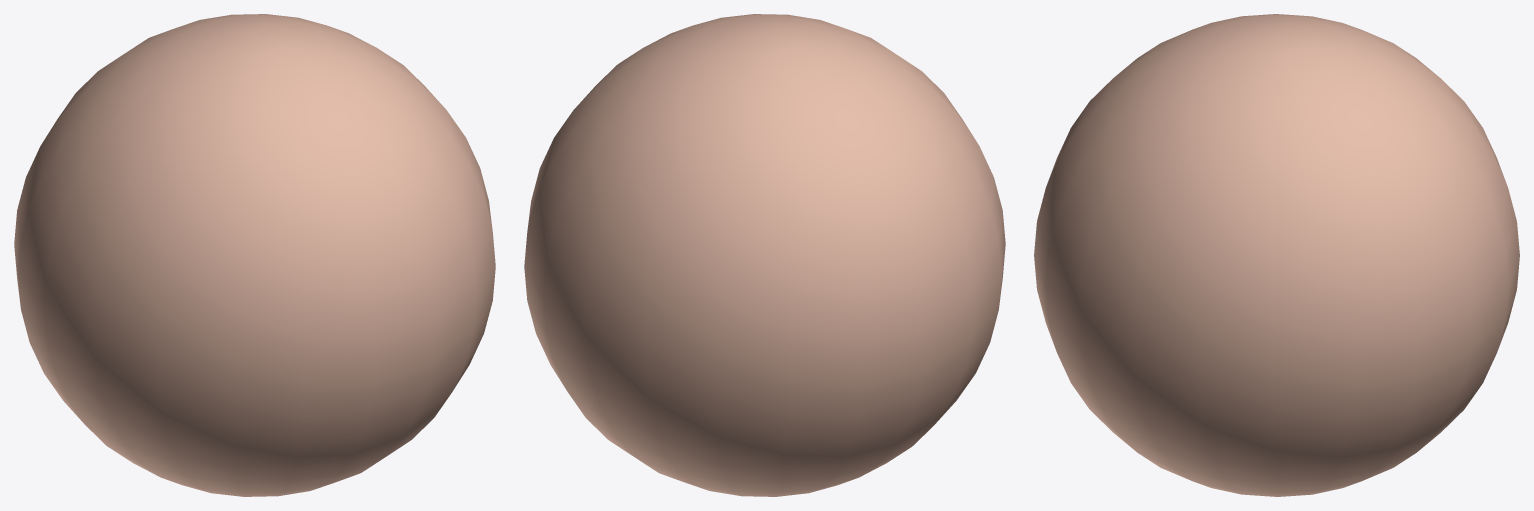
The model's file is CAPERUCITA.fbx.
3 views of the same model, side by side, from view 1: azimuth 30°, elevation 25°; view 2: azimuth 150°, elevation 25°; view 3: azimuth 270°, elevation 25° (orthographic).
Parts seen in each view (by area): view 1: pSphere1, pSphere2; view 2: pSphere2, pSphere1; view 3: pSphere1, pSphere2.
Part boxes in pixels (left/top/right/bottom): pSphere1: left=46, top=24, right=495, bottom=496; pSphere2: left=14, top=14, right=377, bottom=446; pSphere2: left=524, top=32, right=973, bottom=496; pSphere1: left=618, top=14, right=1005, bottom=445; pSphere1: left=1034, top=14, right=1298, bottom=496; pSphere2: left=1276, top=14, right=1519, bottom=496.
Bounding box in the file's own units: 16681 × 16685 × 16778.
